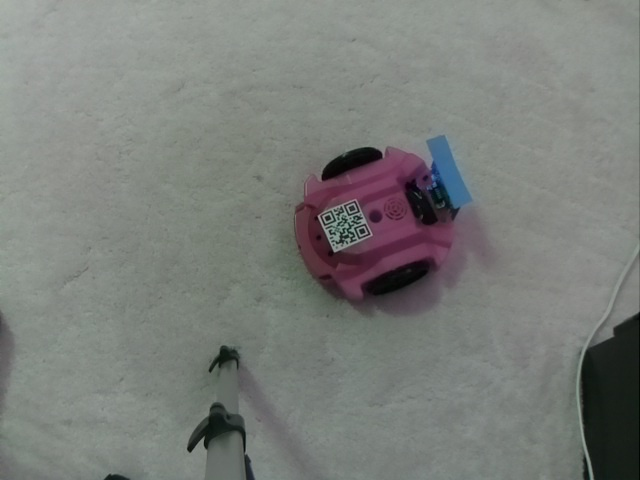chassis: (280, 134, 468, 311)
qr: (317, 199, 375, 249)
